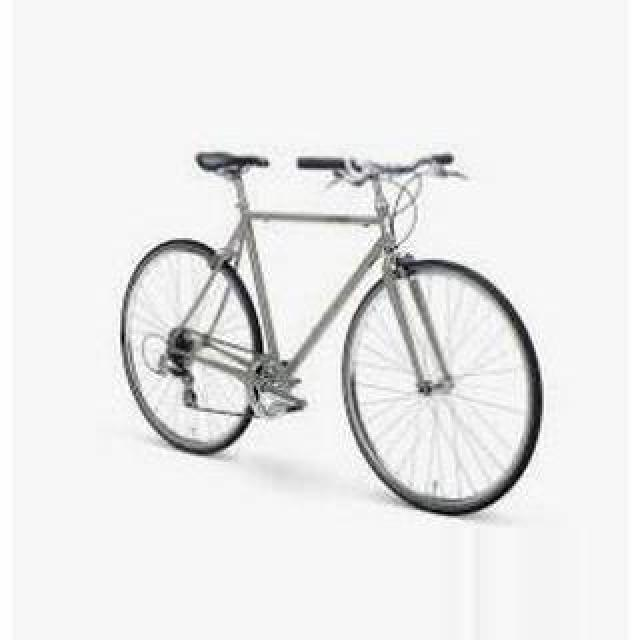Person: (116, 151, 546, 521)
